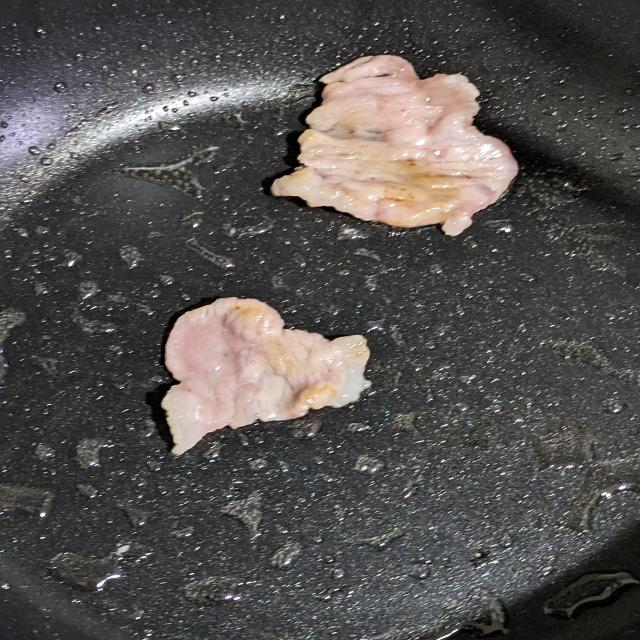NG undercooked pork,: (256, 48, 524, 240), (159, 291, 374, 465)
